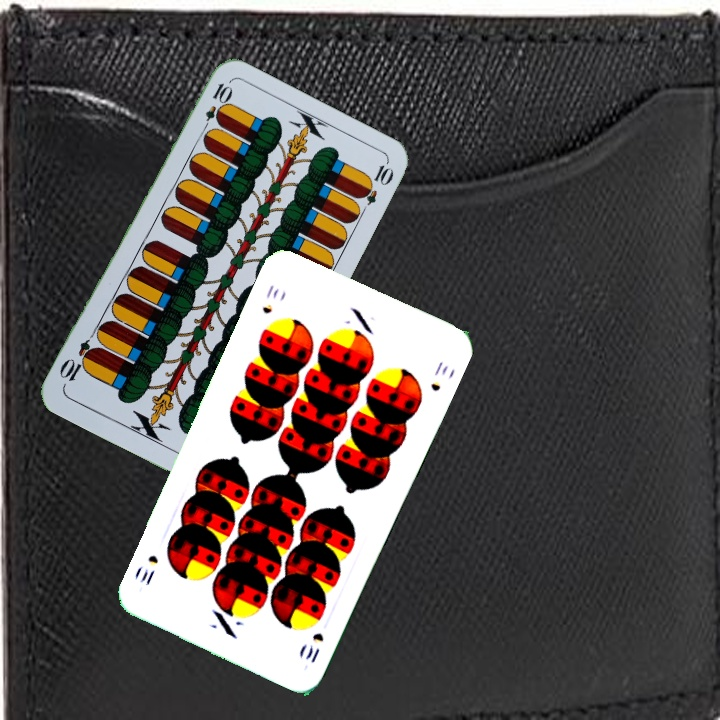E10: (198, 79, 233, 136)
S10: (301, 628, 327, 666), (258, 280, 282, 317)
